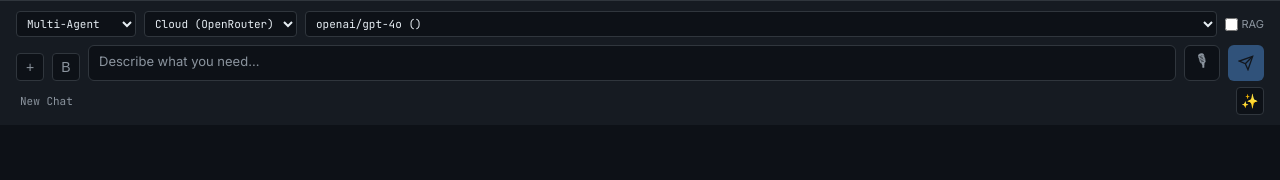
Test: ChatInput — C2 file upload via /api/upload › falls back to status text when the error response is not JSON (nginx 413)
Click the button titled "Upload local file" at [30, 67], box [16,53,44,81]
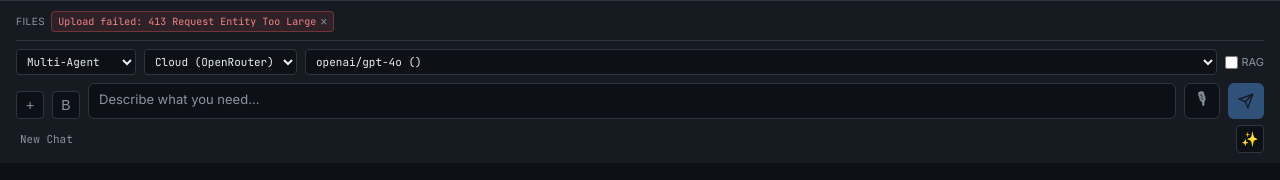
Expected: the message reads "Upload failed: 413 Request Entity Too Large ×", [148,15,316,28]
